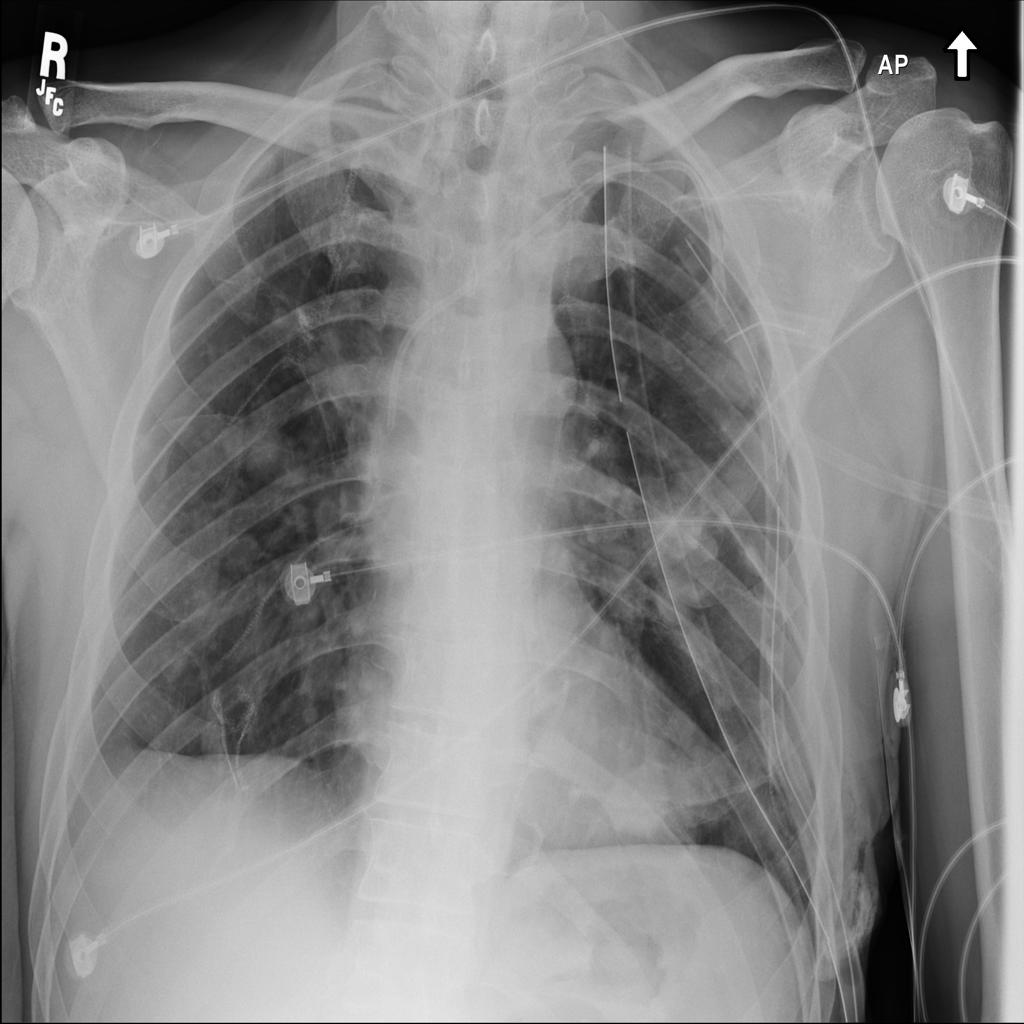nodule: (587, 745, 697, 857), (225, 402, 297, 488), (589, 548, 656, 631), (201, 519, 269, 590), (143, 626, 206, 699)
